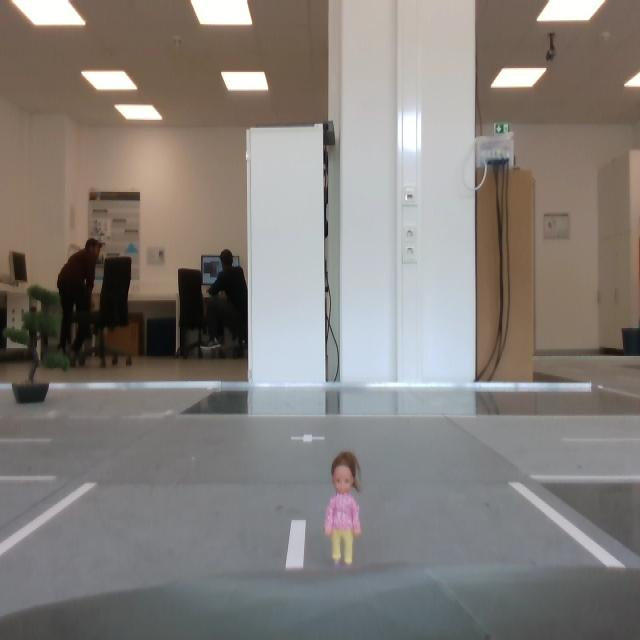person: (325, 448, 360, 566)
potted plant: (5, 284, 70, 404)
